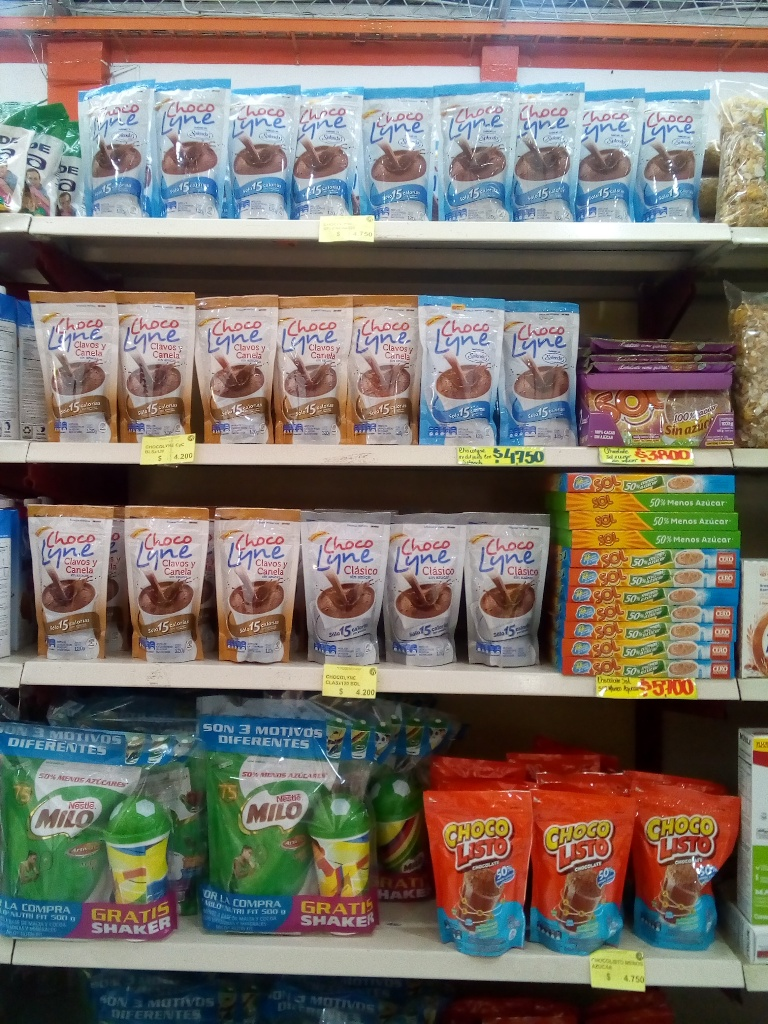COL0170104DYP20000: (622, 771, 749, 953)
COL0170205DYP50000: (190, 751, 307, 924)
